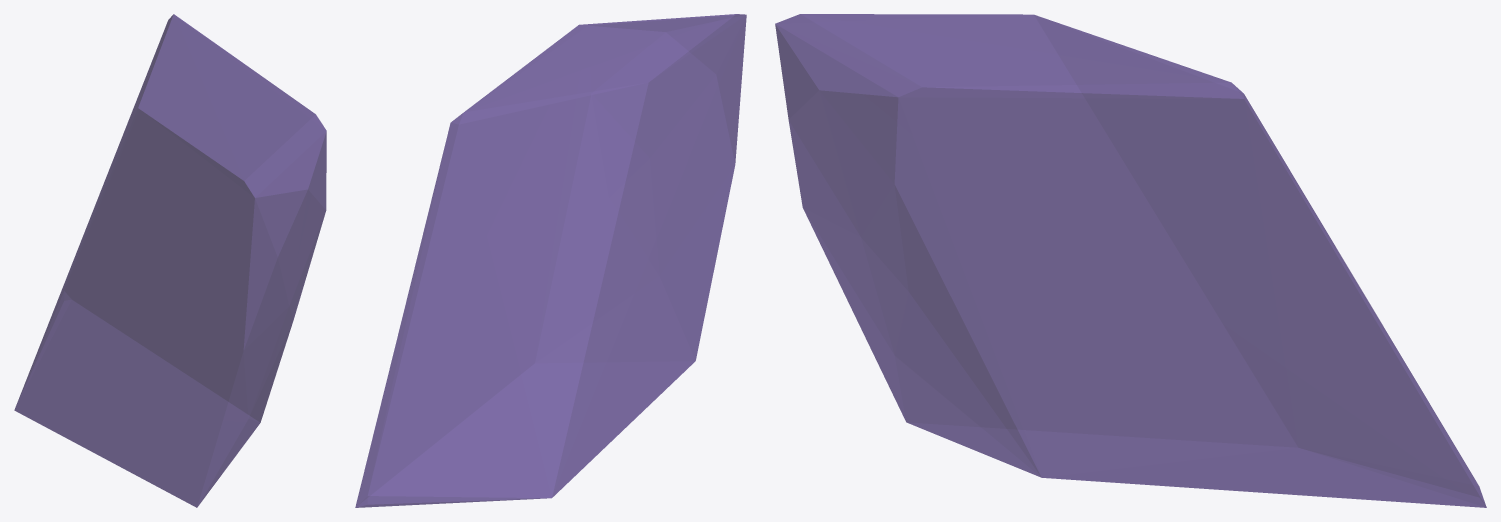
3 renders of one model, left to right at view 1: azimuth 30°, elevation 25°; view 2: azimuth 150°, elevation 25°; view 3: azimuth 270°, elevation 25°, orthographic. The views are drawn at different scales.
Visible parts, largest first — view 1: Shape_IndexedFaceSet.012_Shape_IndexedFaceSet.5914; view 2: Shape_IndexedFaceSet.012_Shape_IndexedFaceSet.5914; view 3: Shape_IndexedFaceSet.012_Shape_IndexedFaceSet.5914.
Boxes of the visible parts, <box> form: Shape_IndexedFaceSet.012_Shape_IndexedFaceSet.5914: <box>14,14,326,507</box>; Shape_IndexedFaceSet.012_Shape_IndexedFaceSet.5914: <box>355,14,746,507</box>; Shape_IndexedFaceSet.012_Shape_IndexedFaceSet.5914: <box>775,14,1486,507</box>.
Size of the model in its own units: 0.1412 by 0.3716 by 0.546.
